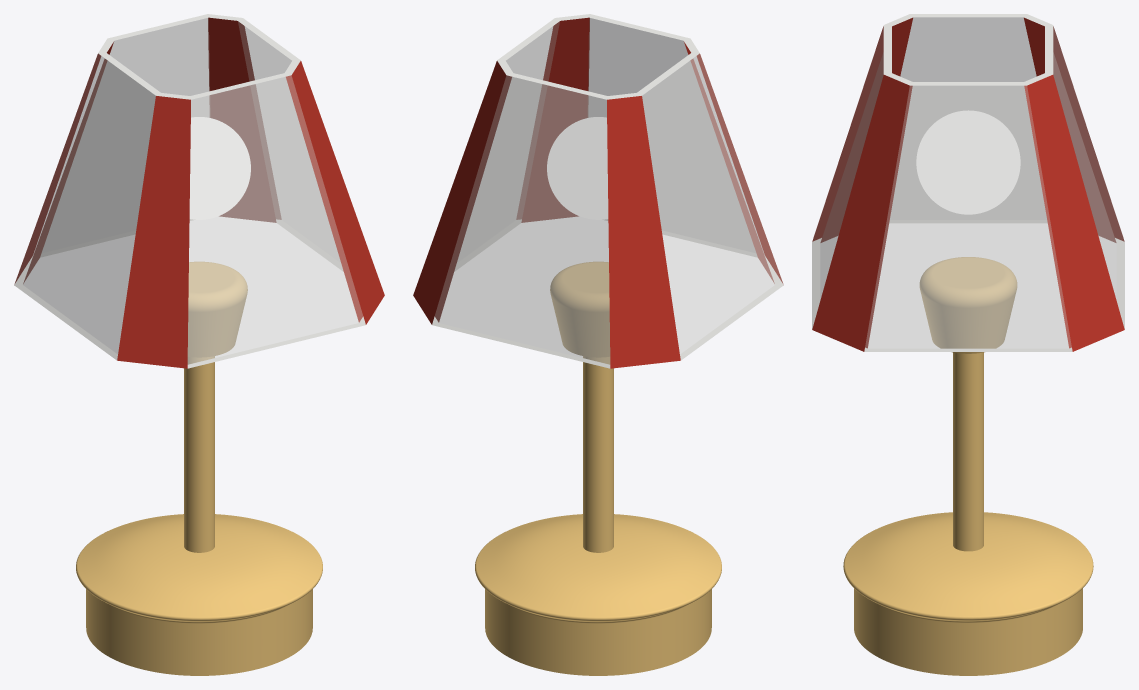
The model's file is clara-d.glb.
3 views of the same model, side by side, from view 1: azimuth 30°, elevation 25°; view 2: azimuth 150°, elevation 25°; view 3: azimuth 270°, elevation 25° (orthographic).
Visible parts, largest first — view 1: Clara D.; view 2: Clara D.; view 3: Clara D..
Boxes of the visible parts, bbox=[...] form: Clara D.: bbox=[14, 14, 384, 675]; Clara D.: bbox=[413, 14, 783, 675]; Clara D.: bbox=[812, 14, 1124, 675].
Bounding box in the file's own units: 0.12 × 0.2446 × 0.12.
